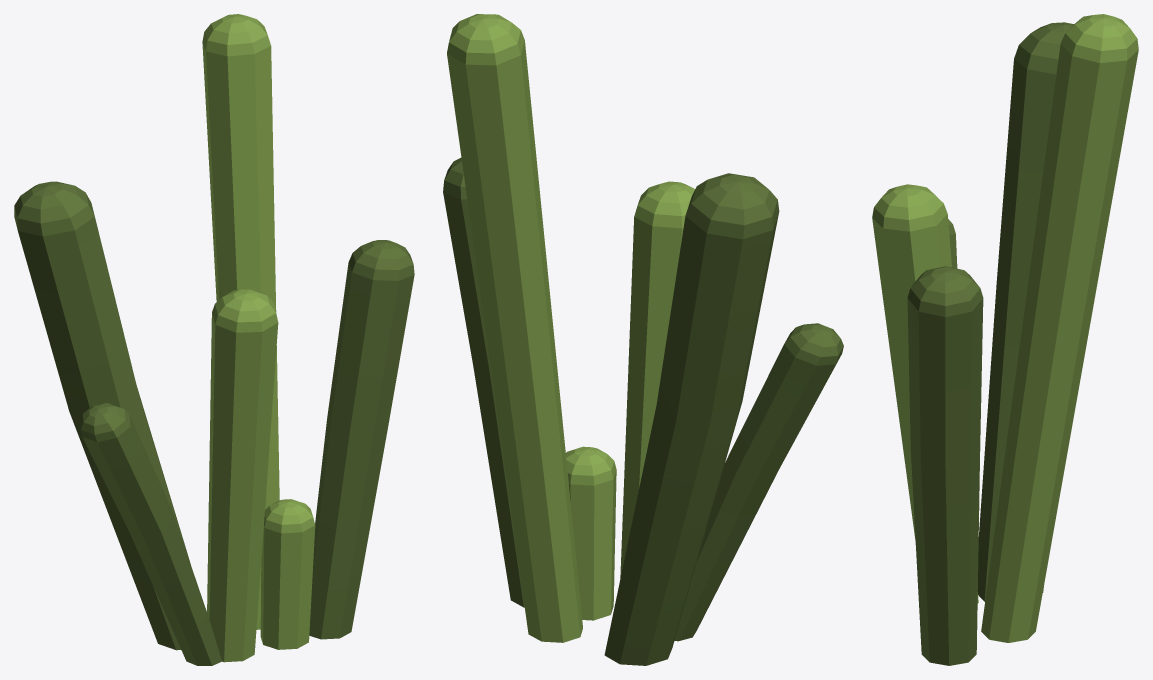
Rendered from grass.glb.
The picture shows the model from 3 angles, left to right: view 1: azimuth 30°, elevation 25°; view 2: azimuth 150°, elevation 25°; view 3: azimuth 270°, elevation 25°; orthographic projection. The views are drawn at different scales.
Parts seen in each view (by area): view 1: cactus_4; view 2: cactus_4; view 3: cactus_4.
Part boxes in pixels (box(x1,y1,x2,y2)): cactus_4: box(14, 14, 414, 665); cactus_4: box(443, 14, 843, 665); cactus_4: box(872, 14, 1138, 665).
Bounding box in the file's own units: 0.9018 × 1.43 × 0.5553.
1 material, 1 textured.
